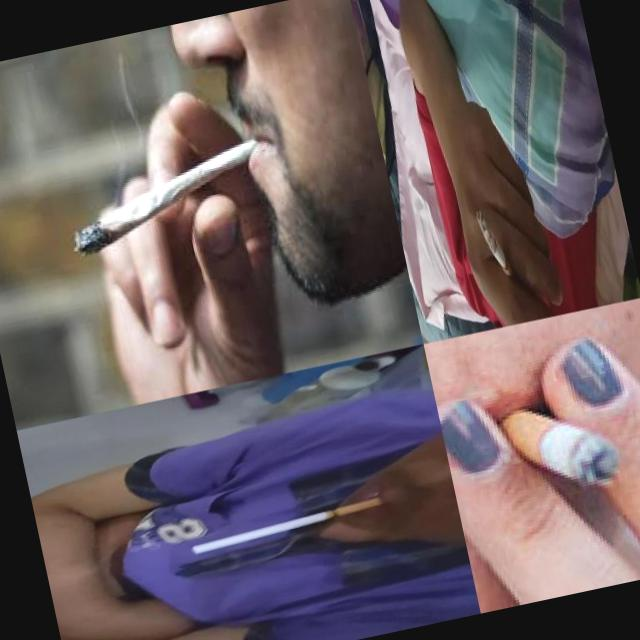cigarette: (59, 138, 272, 258), (496, 390, 623, 502), (186, 496, 386, 555), (475, 204, 516, 288)
